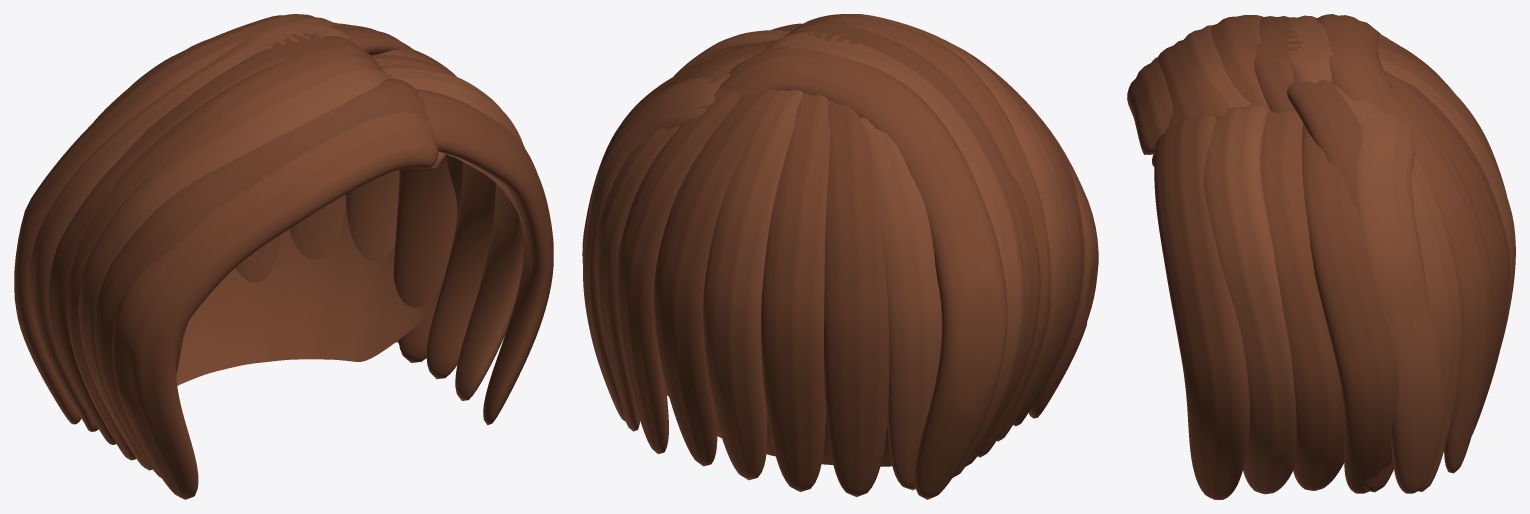
Rendered from Feminine-bob-pashmina261-hair.glb.
The picture shows the model from 3 angles, left to right: view 1: azimuth 30°, elevation 25°; view 2: azimuth 150°, elevation 25°; view 3: azimuth 270°, elevation 25°; orthographic projection. The views are drawn at different scales.
Parts seen in each view (by area): view 1: 226 hair / Hair / sculpted 0.004, 226 hair / Hair / sculpted 1.005, 226 hair / Hair / sculpted 2.004, 226 hair / Hair / sculpted 1; view 2: 226 hair / Hair / sculpted 0.004, 226 hair / Hair / sculpted 2.004, 226 hair / Hair / sculpted 1.005, 226 hair / Hair / sculpted 1; view 3: 226 hair / Hair / sculpted 1.005, 226 hair / Hair / sculpted 2.004, 226 hair / Hair / sculpted 0.004.
Boxes of the visible parts, left/top/right/bottom form: 226 hair / Hair / sculpted 0.004: left=14, top=14, right=495, bottom=499; 226 hair / Hair / sculpted 1.005: left=48, top=25, right=553, bottom=477; 226 hair / Hair / sculpted 2.004: left=29, top=20, right=524, bottom=470; 226 hair / Hair / sculpted 1: left=176, top=154, right=530, bottom=385; 226 hair / Hair / sculpted 0.004: left=616, top=14, right=1098, bottom=499; 226 hair / Hair / sculpted 2.004: left=583, top=14, right=1069, bottom=490; 226 hair / Hair / sculpted 1.005: left=582, top=14, right=1084, bottom=497; 226 hair / Hair / sculpted 1: left=666, top=386, right=892, bottom=466; 226 hair / Hair / sculpted 1.005: left=1154, top=16, right=1509, bottom=499; 226 hair / Hair / sculpted 2.004: left=1178, top=15, right=1515, bottom=494; 226 hair / Hair / sculpted 0.004: left=1127, top=14, right=1506, bottom=490.
Size of the model in its own units: 1.02 by 0.8574 by 0.7806.
